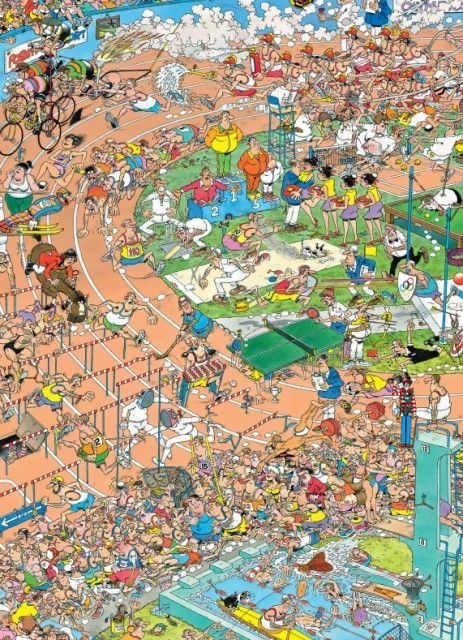waldo: (392, 377, 418, 448)
